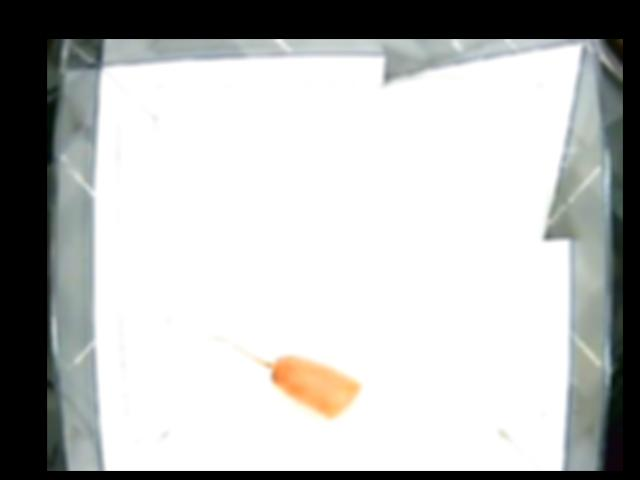Carrot: (263, 353, 361, 416)
